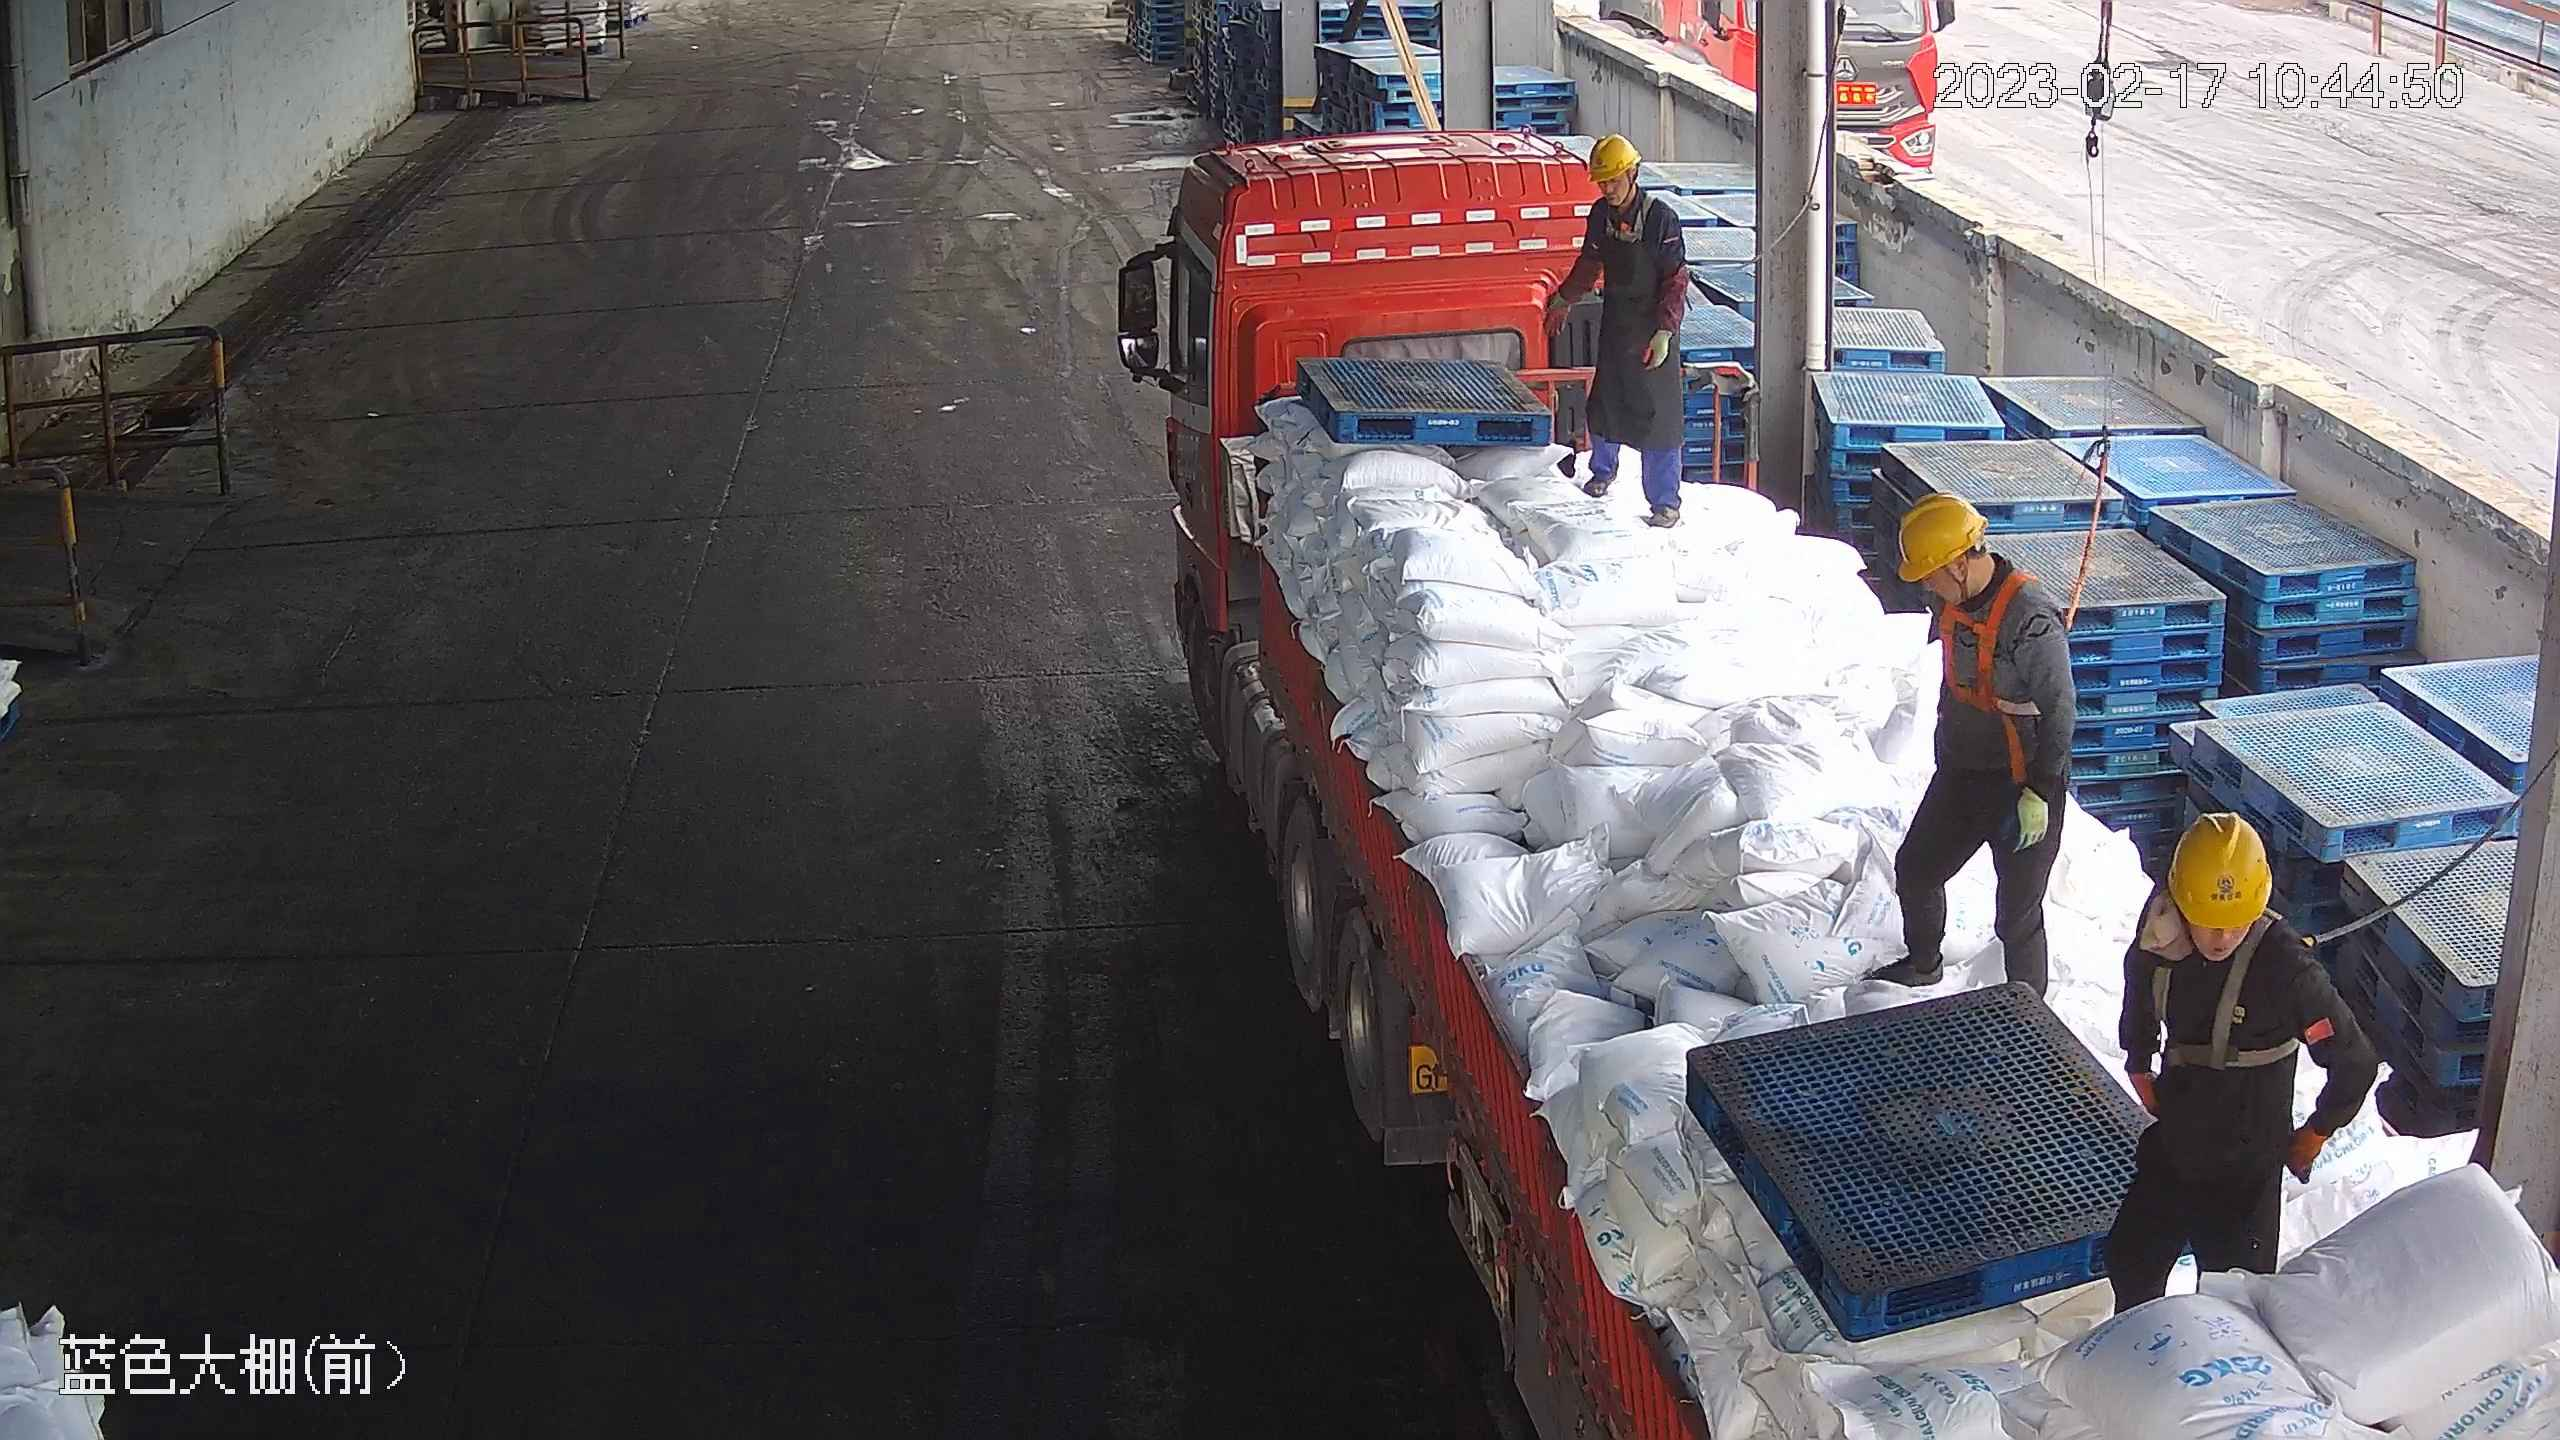belt: (2144, 922, 2339, 1067), (1912, 569, 2100, 717), (1598, 191, 1669, 245)
head: (2144, 810, 2332, 1005), (1898, 494, 2062, 674), (1562, 133, 1676, 247)
helmet: (2164, 815, 2278, 930), (1900, 496, 1991, 581), (1588, 130, 1644, 186)
people: (2103, 810, 2379, 1322), (1864, 491, 2078, 1008), (1545, 135, 1696, 532)
truck: (1112, 128, 2560, 1440)
